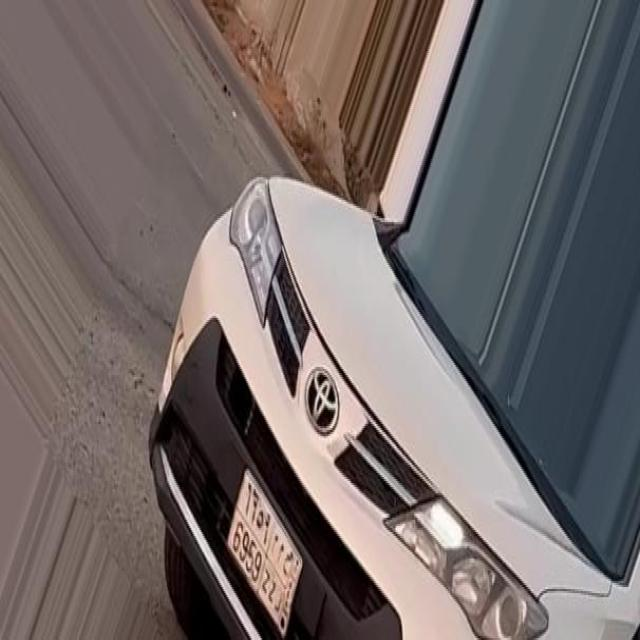Car-plate: (221, 452, 310, 640)
